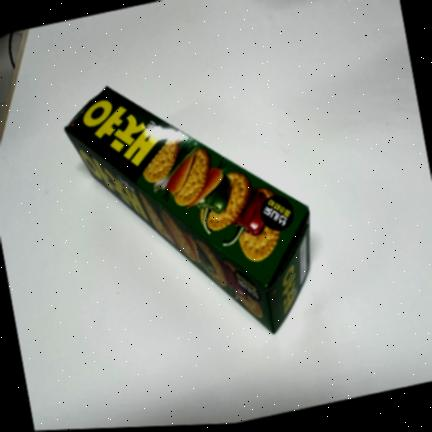cracker_vege: (65, 85, 311, 334)
